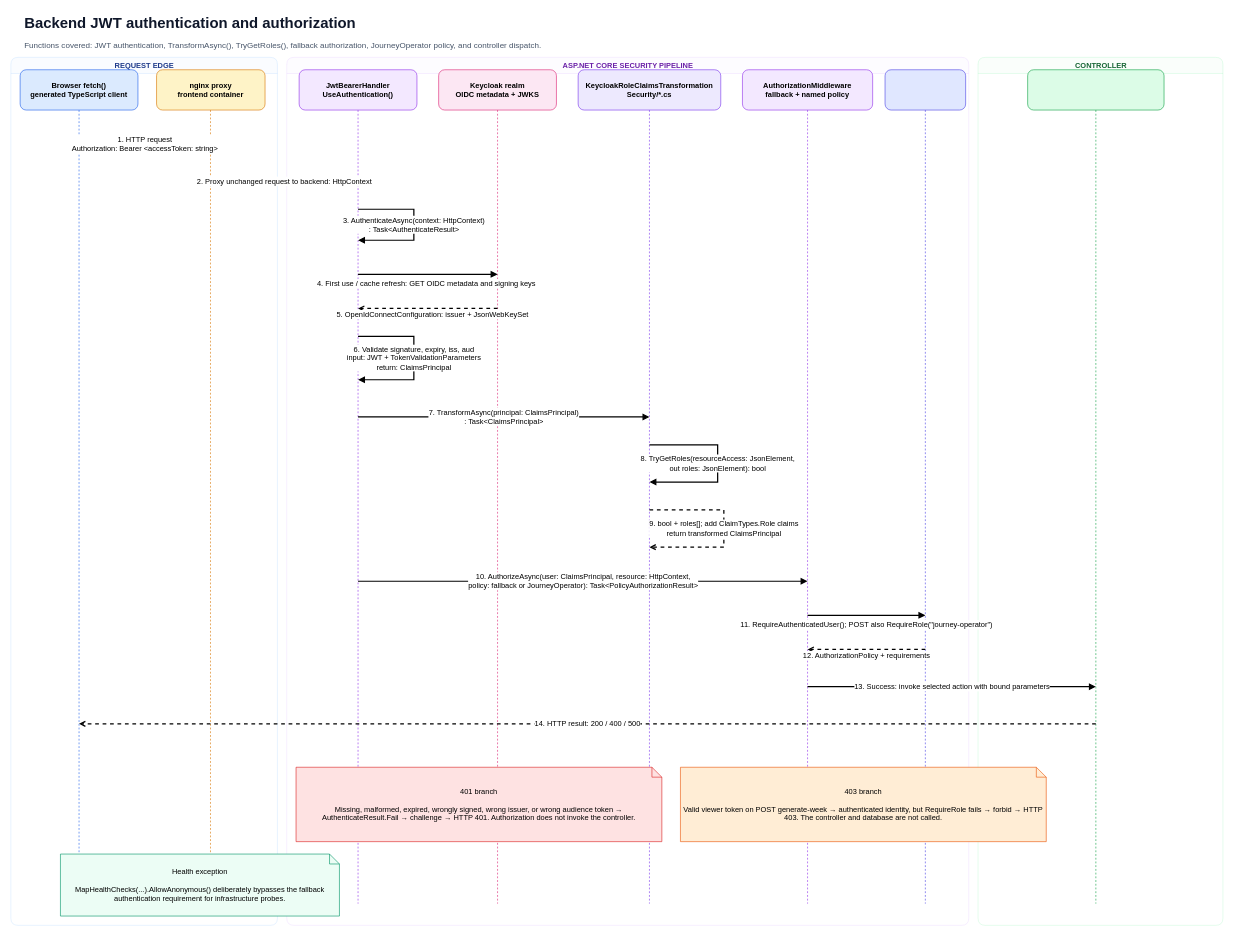
Image size: 1234x936. Some labels were removed from this diagram. Each missing label, with the centre of its shape:
"API controller action System / Journeys" goes at pixel 1095 89.
"ApplicationAuthorization + Program.cs policies" goes at pixel 925 89.
